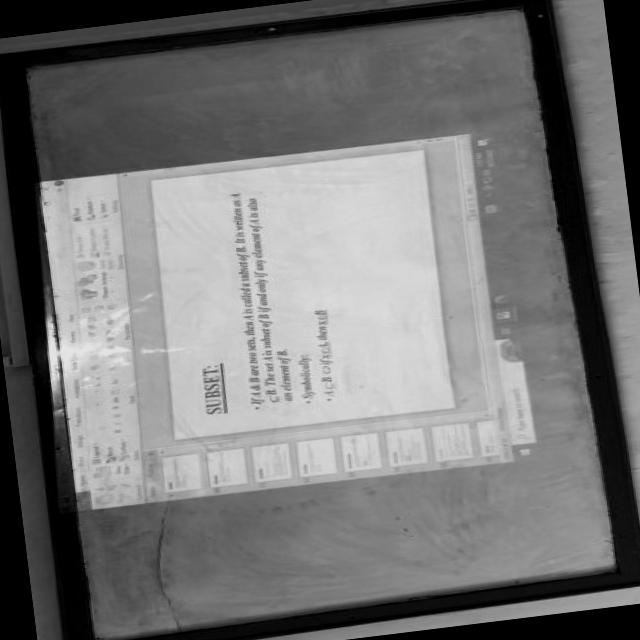Slide: (40, 131, 539, 513)
White-board: (4, 0, 635, 640)
